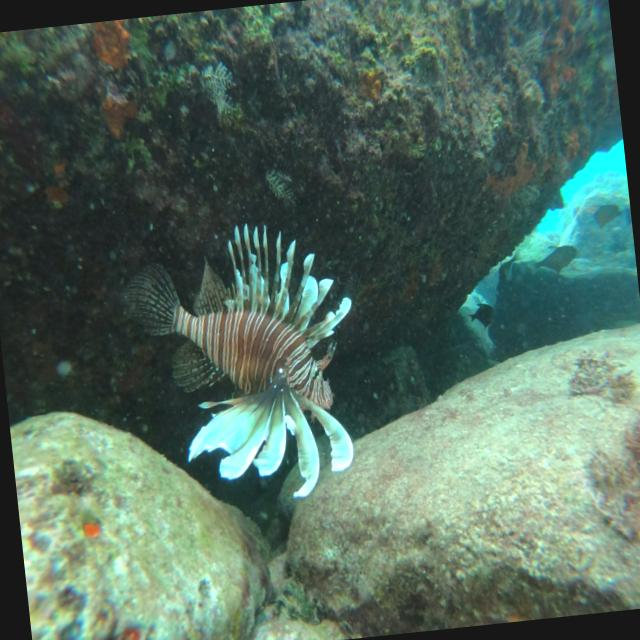Aslan Baligi: (114, 211, 372, 515)
